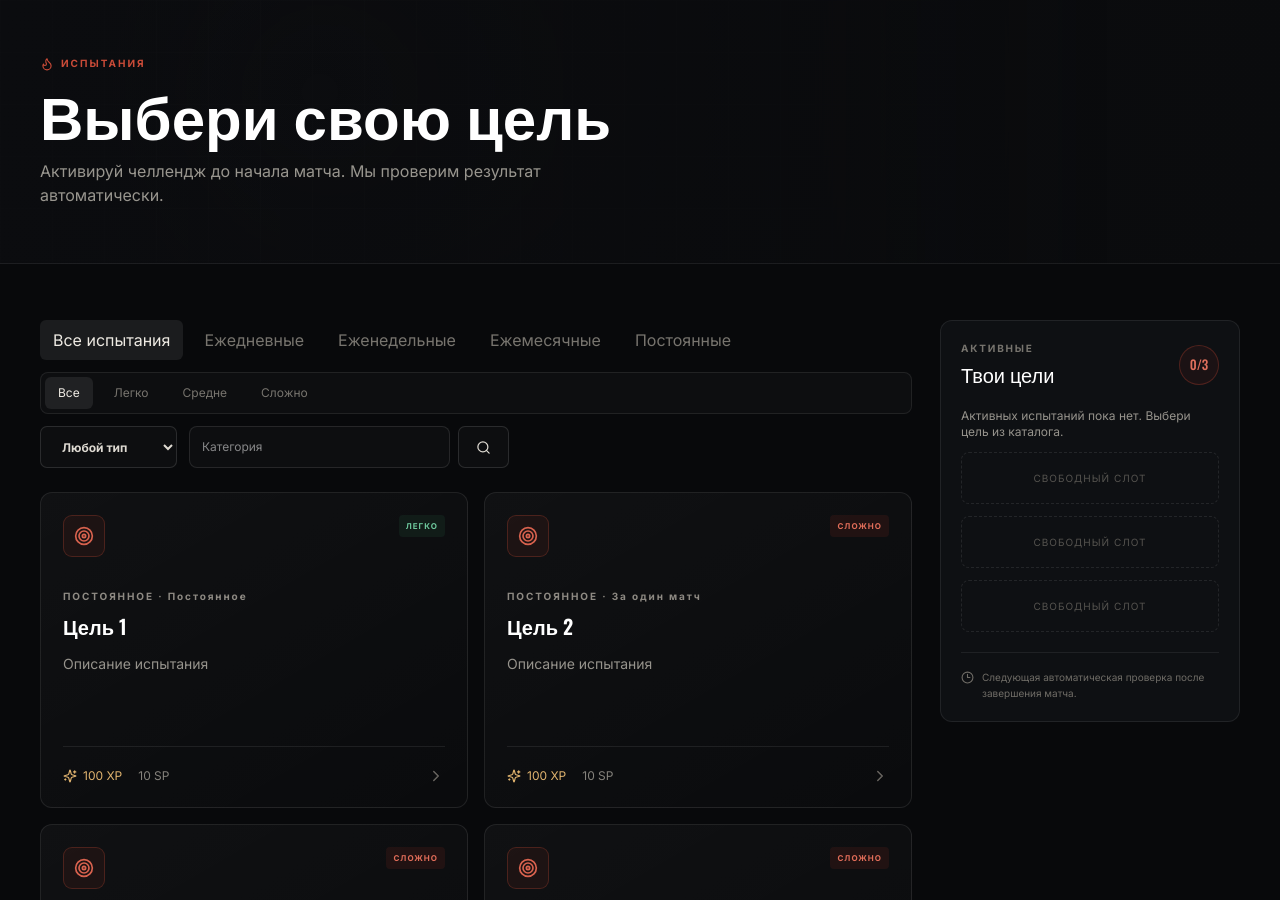
Test: shows backend activation conflict without changing active count
Click the button "Цель 1" at (84,536), box [40,492,468,808]
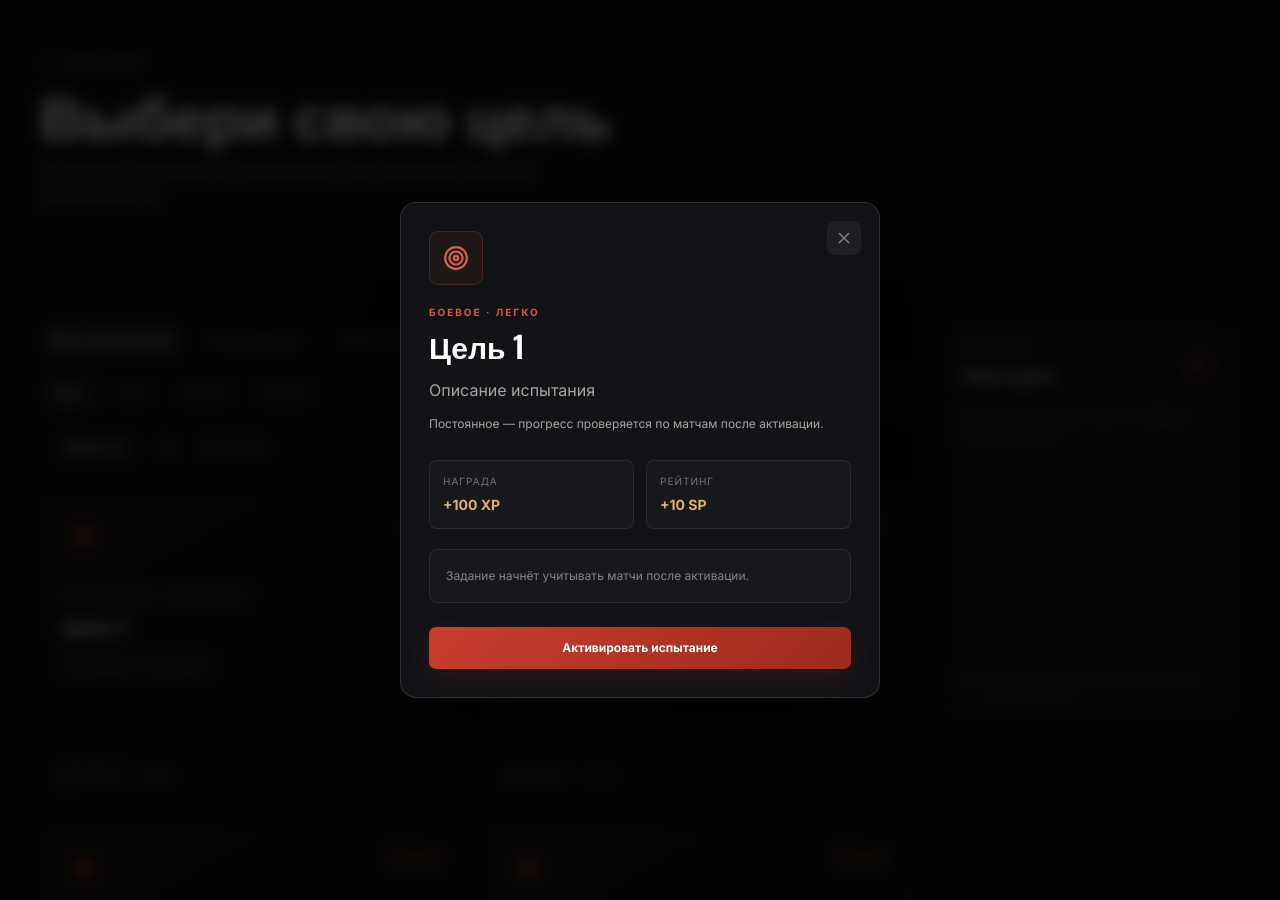
Click the button "Активировать испытание" at (640,648), box [429,627,851,669]
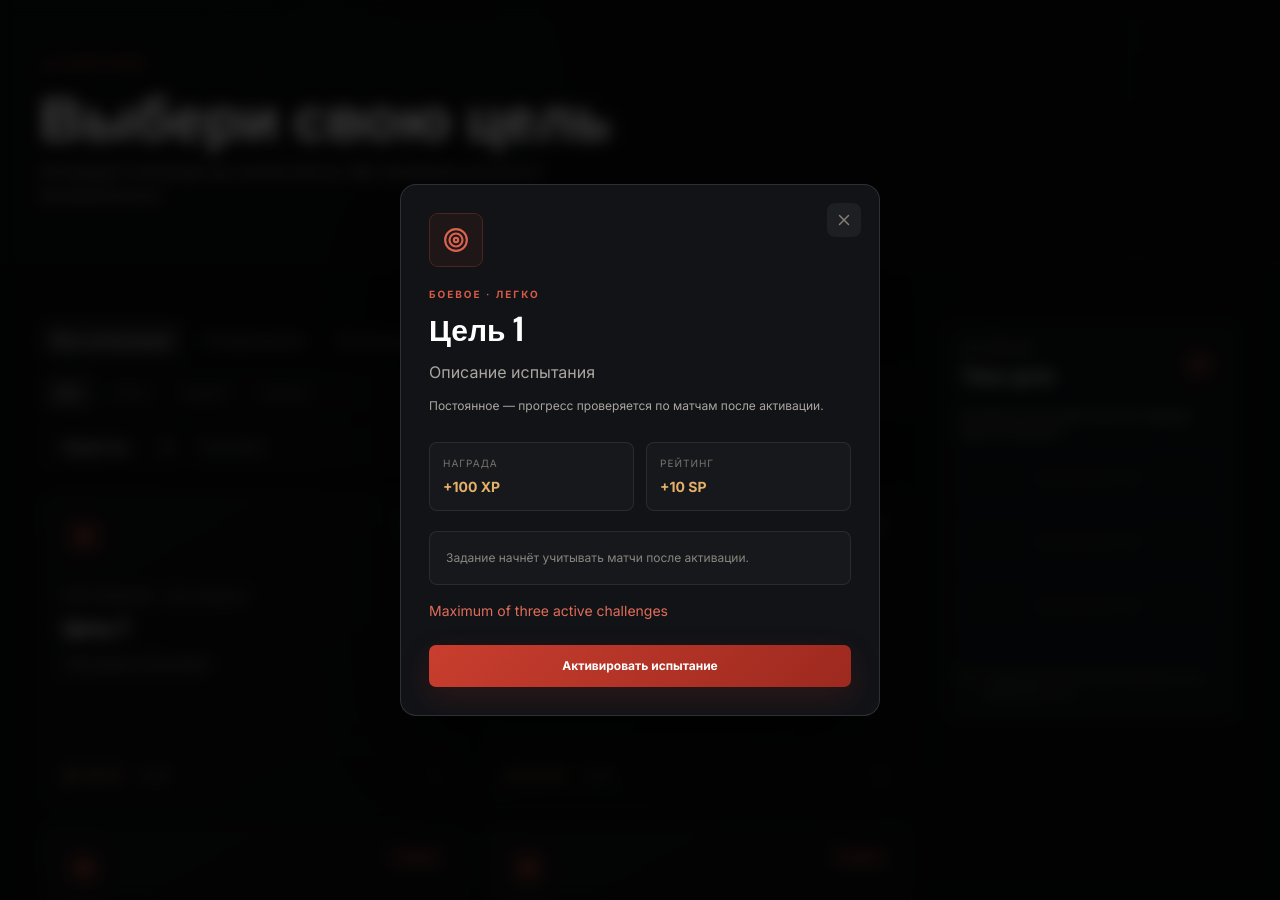
Result: the message reads "Maximum of three active challenges" at [429,602,668,619]
